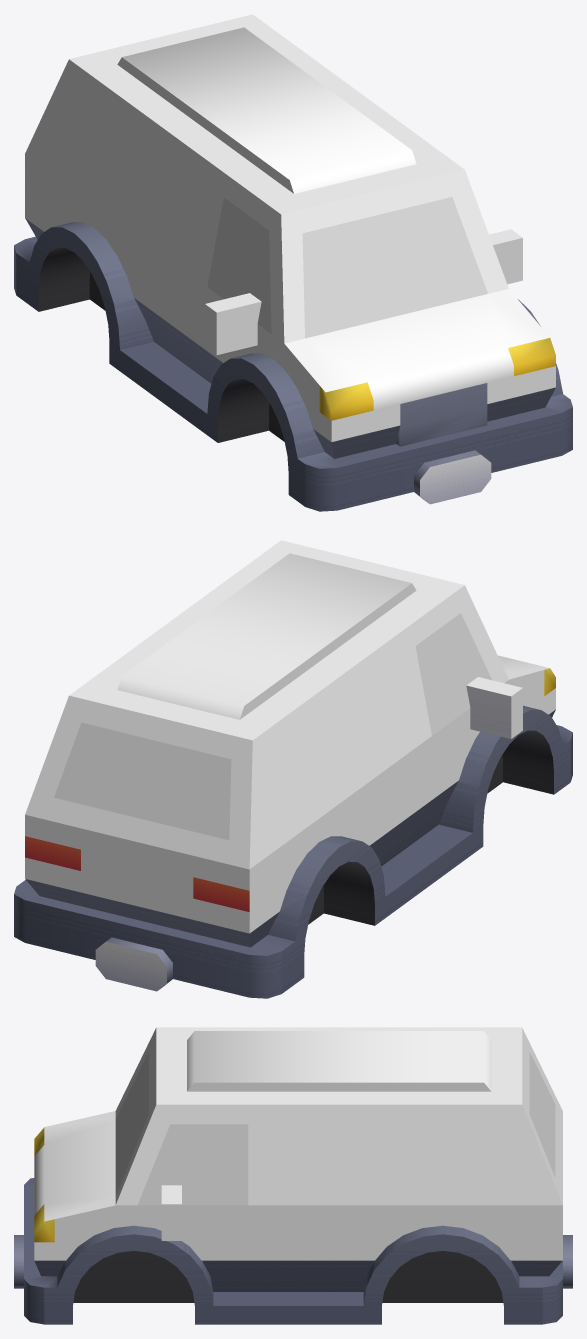
The model's file is vanWhitebody.glb.
The picture shows the model from 3 angles, top to bottom: view 1: azimuth 30°, elevation 25°; view 2: azimuth 150°, elevation 25°; view 3: azimuth 270°, elevation 25°; orthographic projection. The views are drawn at different scales.
Parts seen in each view (by area): view 1: body, bodyFrontWindow, bodyRightWindow; view 2: body, bodyRearWindow, bodyRightWindow; view 3: body, bodyLeftWindow, bodyFrontWindow, bodyRearWindow.
Part boxes in pixels (left/top/right/bottom): body: left=14, top=14, right=572, bottom=511; bodyFrontWindow: left=302, top=197, right=487, bottom=338; bodyRightWindow: left=207, top=197, right=271, bottom=333; body: left=14, top=540, right=572, bottom=998; bodyRearWindow: left=54, top=722, right=231, bottom=840; bodyRightWindow: left=415, top=613, right=491, bottom=735; body: left=14, top=1027, right=572, bottom=1324; bodyLeftWindow: left=138, top=1124, right=248, bottom=1205; bodyFrontWindow: left=115, top=1052, right=148, bottom=1195; bodyRearWindow: left=529, top=1052, right=555, bottom=1177.
Bounding box in the file's own units: 1.5 × 1.2 × 2.75.
2 materials, 1 textured.
